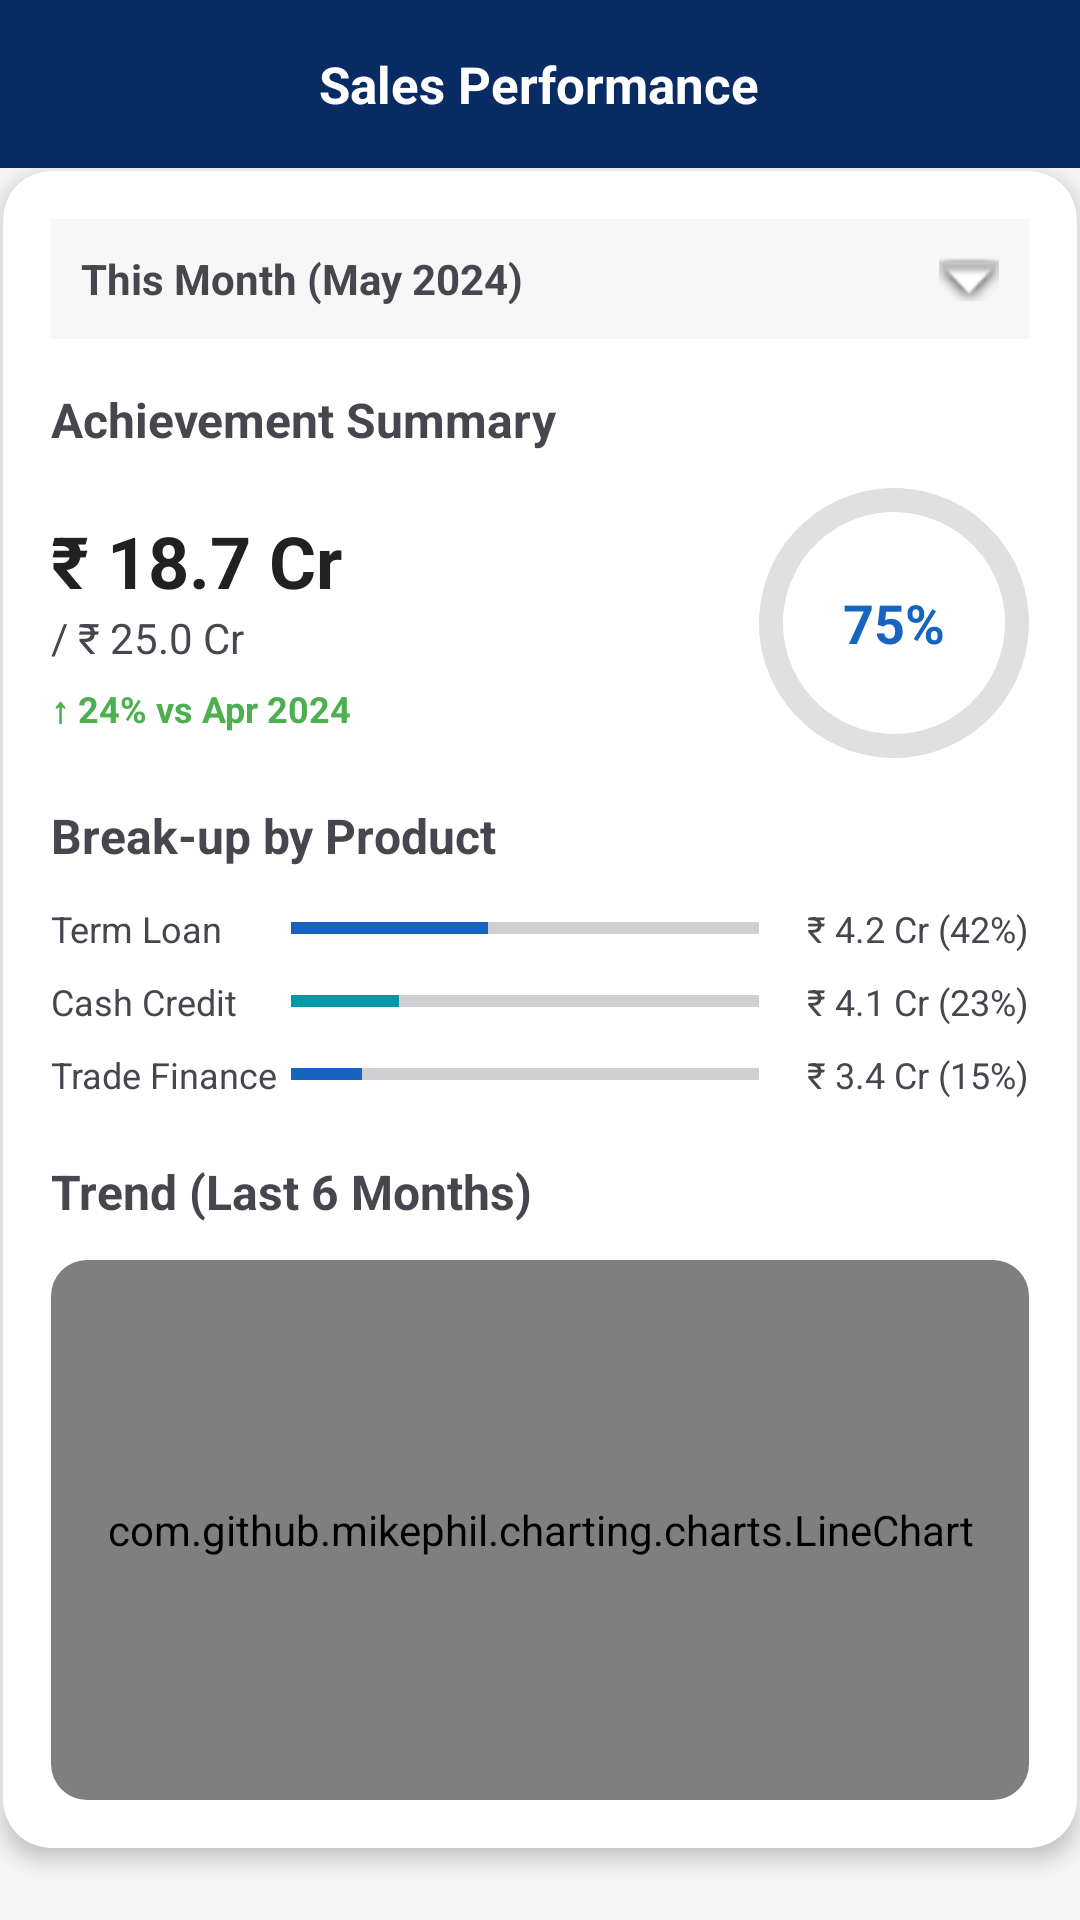

Icons on this 1080*1920 Android screen, each with the point to tap as (x=x, y=y):
arrow down float: (x=969, y=279)
